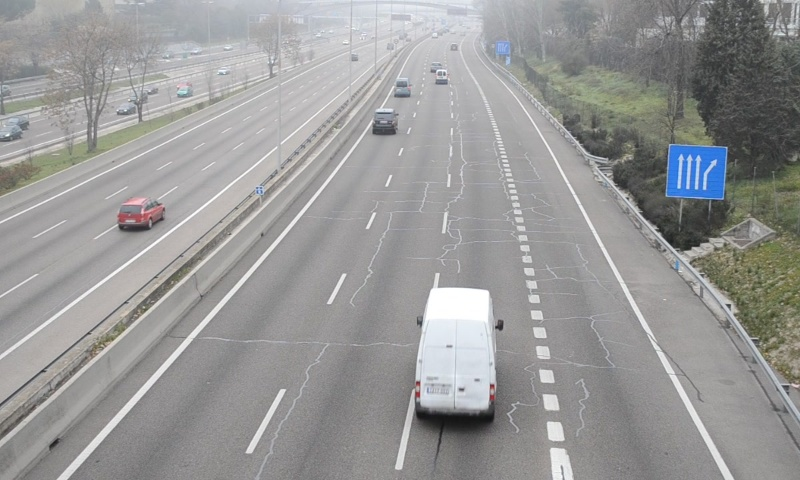car: (372, 108, 398, 134)
van: (413, 288, 496, 420), (394, 76, 408, 98)
